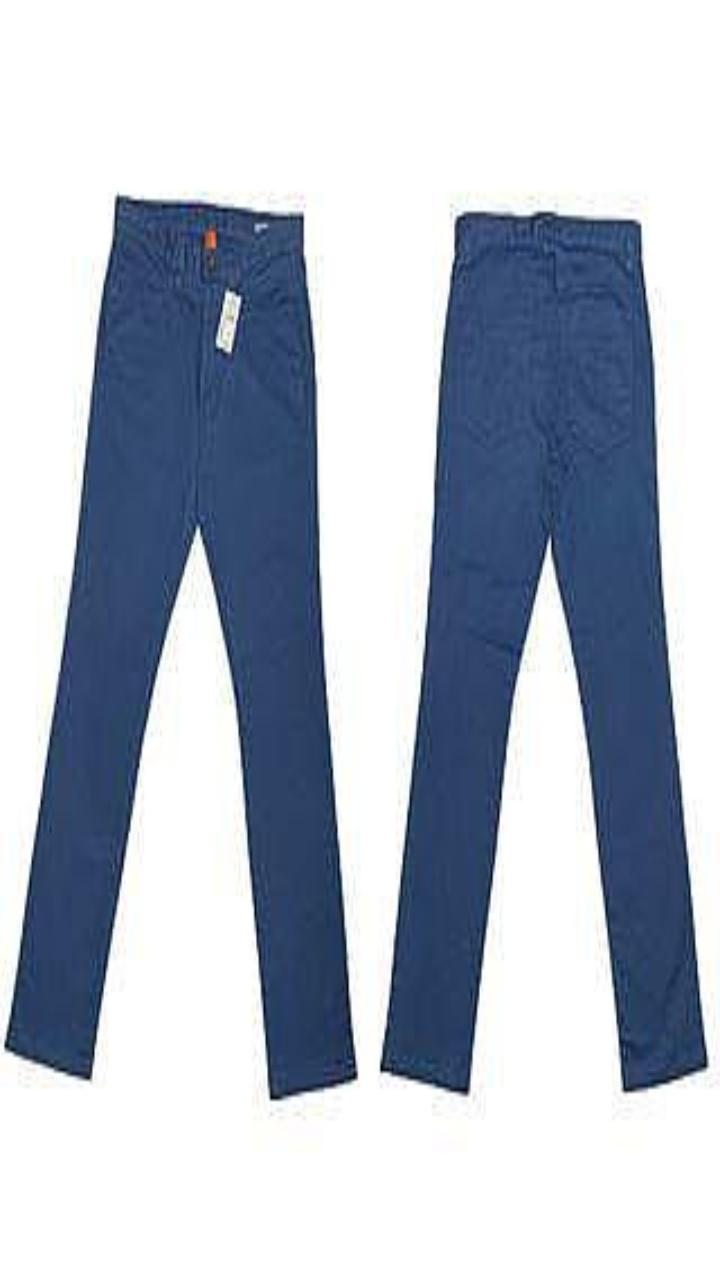Jeans: (8, 199, 354, 1096), (383, 215, 705, 1089)
